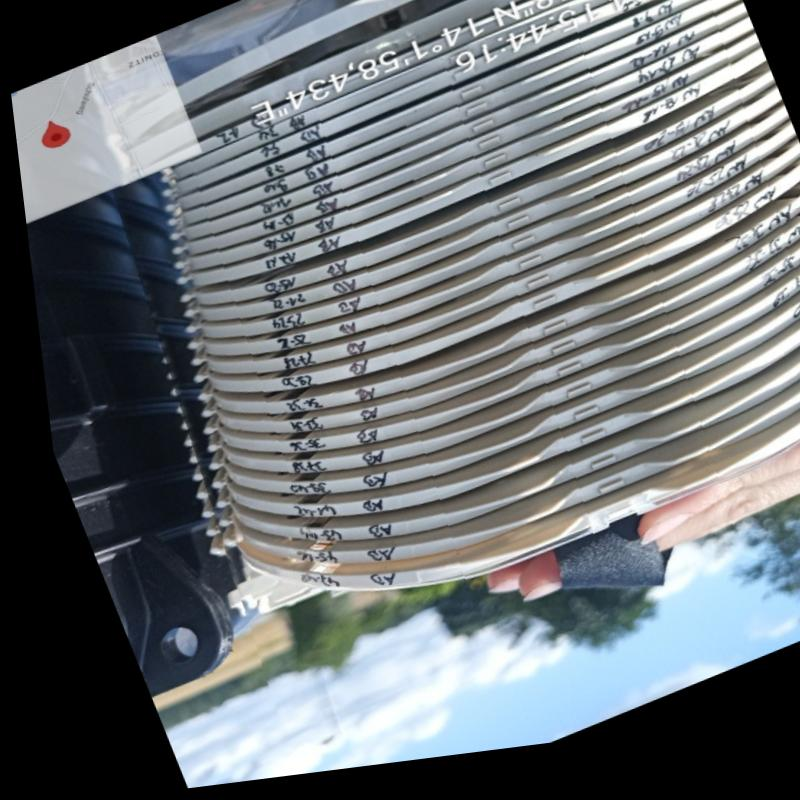NT-Muffen: (120, 0, 800, 663)
